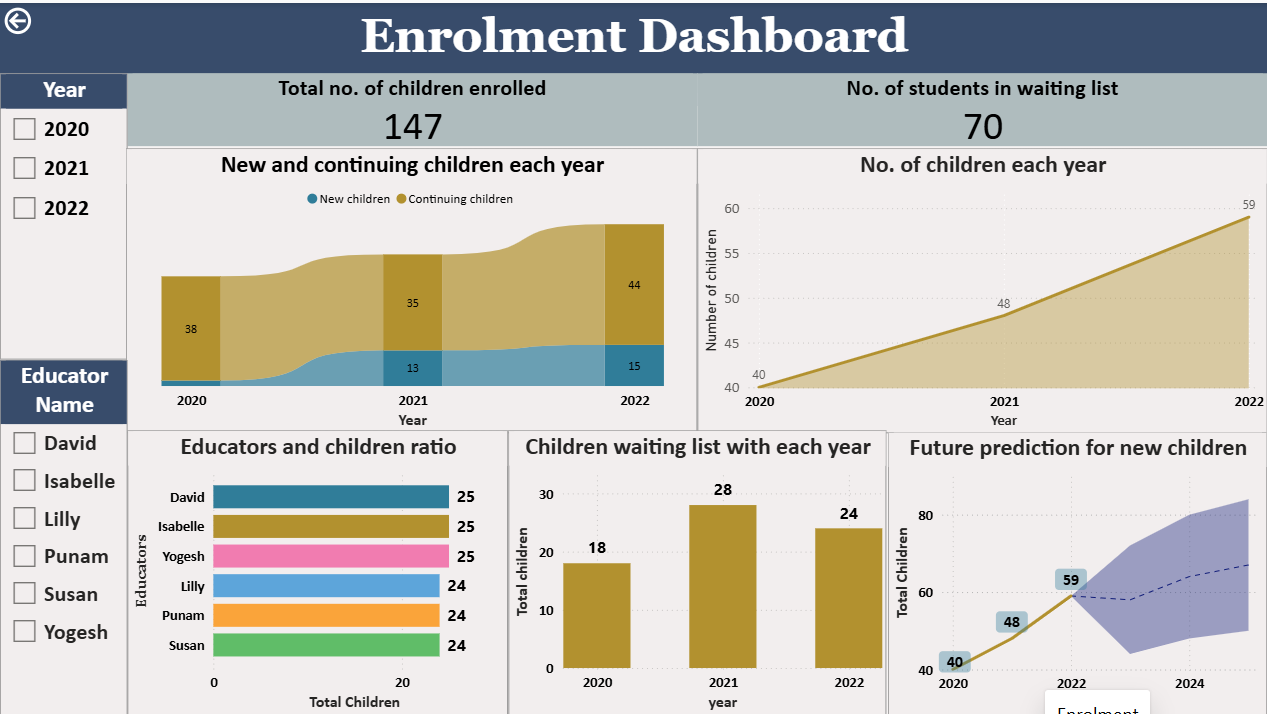

This screenshot's page, from the dashboard's own definition file:
{"tool":"powerbi","page":{"name":"Enrolment","canvas":[1280,720],"ordinal":4},"visuals":[{"type":"textbox","box":[0,0,1280.3,72.1],"z":0},{"type":"card","title":"Total no. of children enrolled","fields":{"Values":["Count(Enrollment.enrollment_id)"]},"box":[128.9,71.8,575.5,73.1],"z":1000},{"type":"card","title":"No. of students in waiting list","fields":{"Values":["Count(ChildWaitlist.child_waitlist_id)"]},"box":[704.5,71.8,575.5,73.1],"z":2000},{"type":"slicer","title":"Year","fields":{"Values":["Enrollment.year"]},"box":[0,71.8,128.9,288.4],"z":3000},{"type":"ribbonChart","title":"New and continuing children each year","fields":{"Category":["Enrollment.year"],"Y":["Enrollment.Count of child_id for TRUE","Enrollment.Count of child_id for FALSE"]},"box":[127.6,146.2,576.9,287.1],"z":4000},{"type":"stackedAreaChart","title":"No. of children each year","fields":{"Category":["Enrollment.year"],"Y":["CountNonNull(Enrollment.child_id)"]},"box":[704.5,146.2,575.5,287.1],"z":5000},{"type":"actionButton","box":[0,0,128.8,36.1],"z":6000},{"type":"lineChart","title":"Future prediction for new children","fields":{"Category":["Enrollment.year"],"Y":["Count(Enrollment.child_id)"]},"box":[895.9,433.3,382.8,287.1],"z":7000},{"type":"columnChart","title":"Children waiting list with each year","fields":{"Category":["ChildWaitlist.year Hierarchy.year"],"Y":["Count(ChildWaitlist.child_waitlist_id)"]},"box":[513.1,432,381.5,287.1],"z":8000},{"type":"barChart","title":"Educators and children ratio","fields":{"Category":["Educator.educator_name"],"Y":["CountNonNull(Enrollment.child_id)"]},"box":[128.9,432,384.1,287.1],"z":9000},{"type":"slicer","title":"Educator Name","fields":{"Values":["Educator.educator_name"]},"box":[0,360.2,128.9,360.2],"z":10000}]}

Visuals, with their boxes in screenshot pixels (x1, y1, x2, y2), scaled from the page's 1280x720 canvas onto the 1267x714 screenshot:
textbox: locate(0, 0, 1266, 71)
"Total no. of children enrolled" card: locate(128, 71, 697, 144)
"No. of students in waiting list" card: locate(697, 71, 1266, 144)
"Year" slicer: locate(0, 71, 128, 357)
"New and continuing children each year" ribbonChart: locate(126, 145, 697, 430)
"No. of children each year" stackedAreaChart: locate(697, 145, 1266, 430)
actionButton: locate(0, 0, 127, 36)
"Future prediction for new children" lineChart: locate(887, 430, 1266, 713)
"Children waiting list with each year" columnChart: locate(508, 428, 886, 713)
"Educators and children ratio" barChart: locate(128, 428, 508, 713)
"Educator Name" slicer: locate(0, 357, 128, 713)
